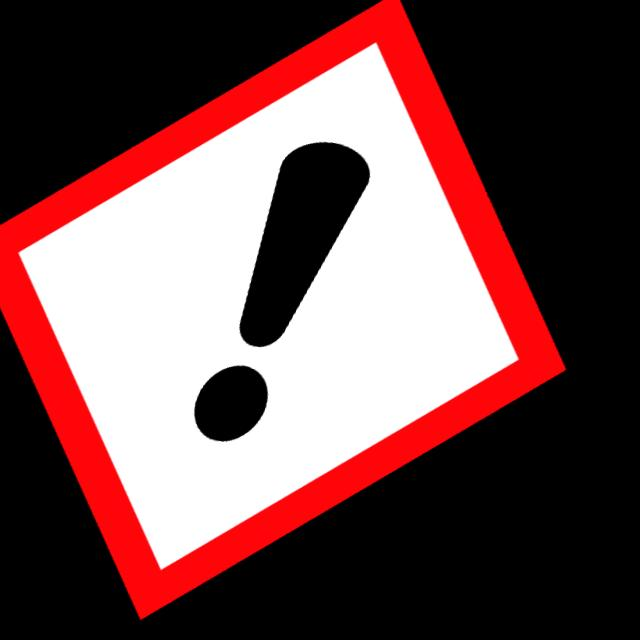health-ozone layer hazard: (184, 134, 388, 455)
